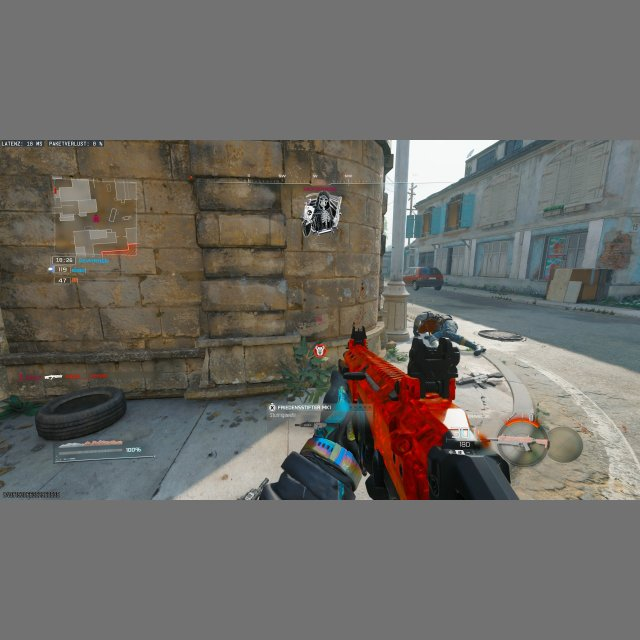player: (411, 310, 485, 355)
